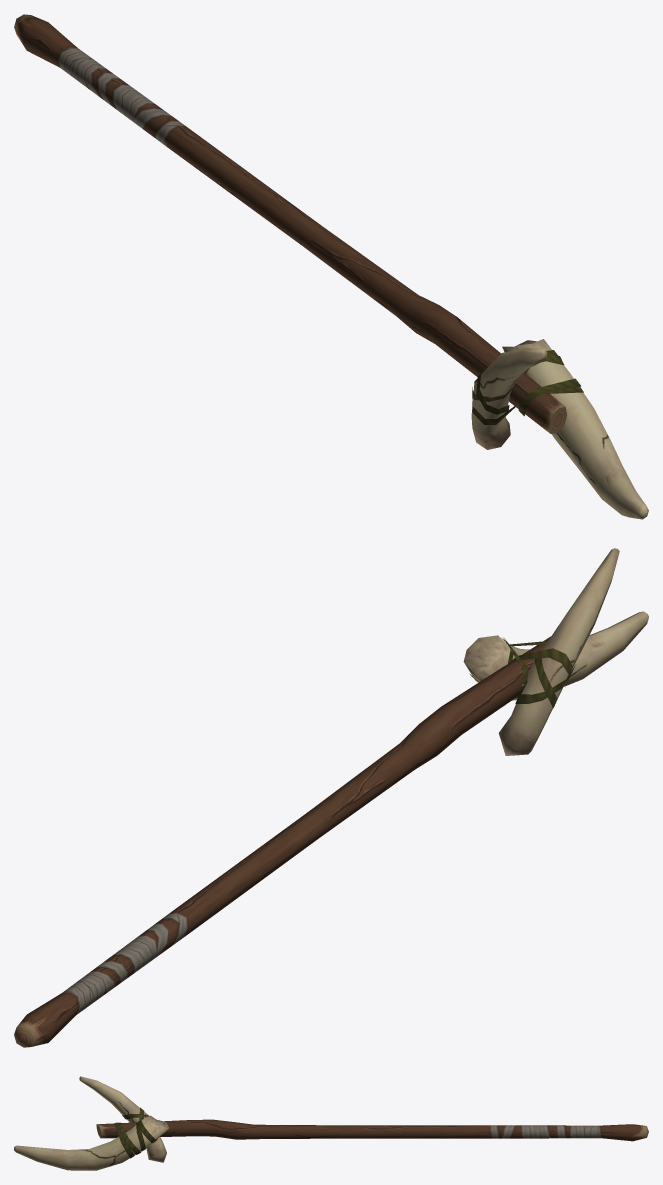
File: Weapon_Spear_005.glb
3 views of the same model, one above another, from view 1: azimuth 30°, elevation 25°; view 2: azimuth 150°, elevation 25°; view 3: azimuth 270°, elevation 25° (orthographic). The views are drawn at different scales.
Parts seen in each view (by area): view 1: Weapon_Spear_005; view 2: Weapon_Spear_005; view 3: Weapon_Spear_005.
Part boxes in pixels (x1,y1,x2,y2): Weapon_Spear_005: (14,14,648,519); Weapon_Spear_005: (14,548,648,1047); Weapon_Spear_005: (14,1076,648,1170).
Size of the model in its own units: 0.2454 by 0.3647 by 2.62.
1 material, 1 textured.
